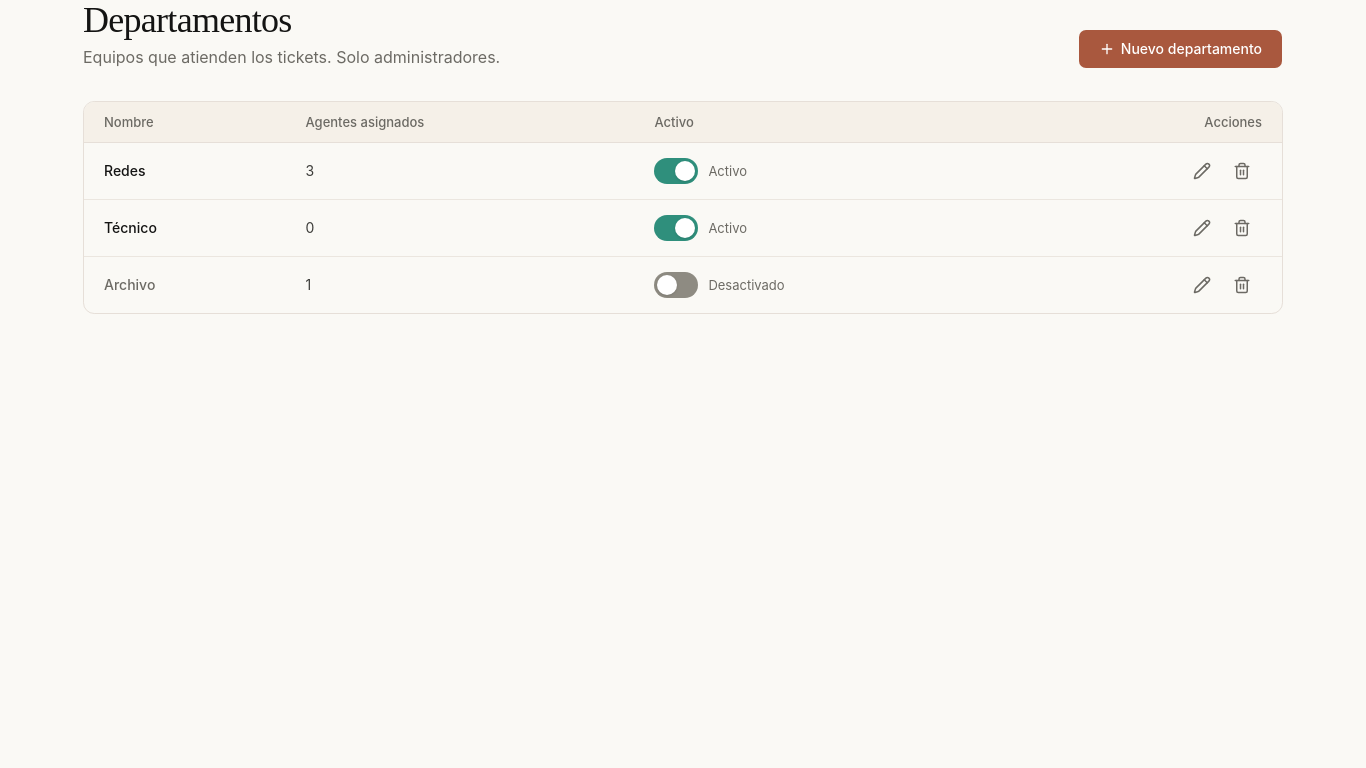
Test: OrganizationsAdmin › alta › sin nombre pide uno y no envía
The width and height of the screenshot is (1366, 768).
What coordinates should you click on to do the following:
click the button "Nuevo departamento"
I would click on:
 (1180, 49)
Its box is x1=1078 y1=29 x2=1283 y2=69.
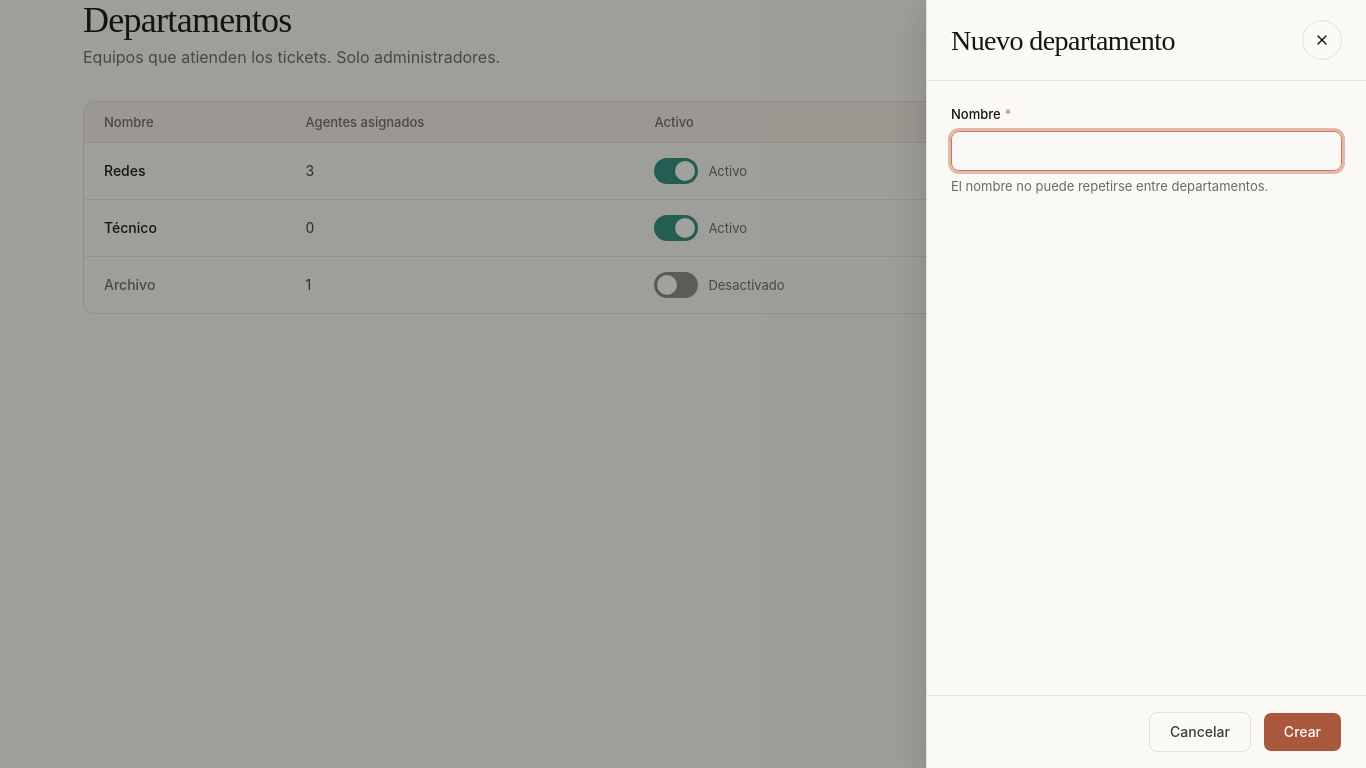
What coordinates should you click on to do the following:
click the button "Crear"
I would click on:
 (1302, 732)
Its box is x1=1263 y1=712 x2=1342 y2=752.
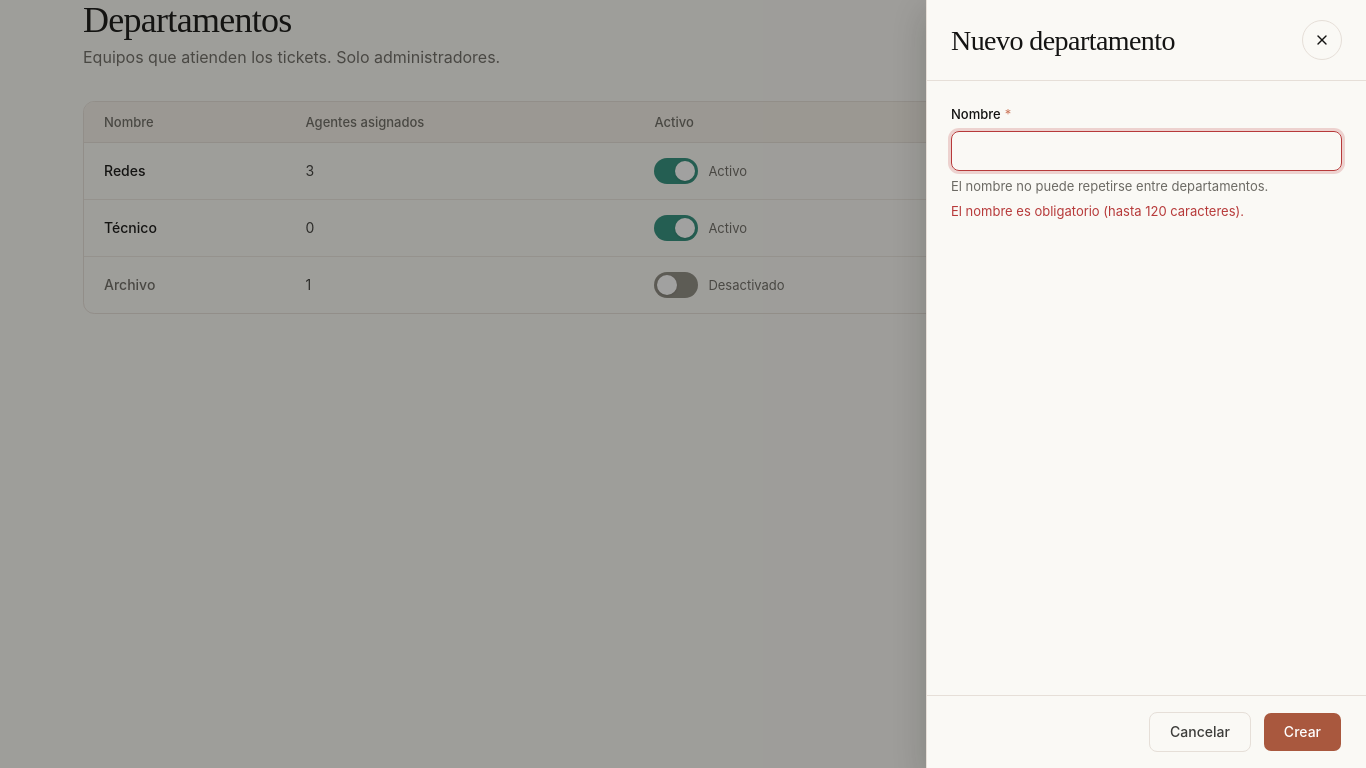
Expected: the text "El nombre es obligatorio (hasta 120 caracteres)." is shown, x1=951 y1=203 x2=1244 y2=219
